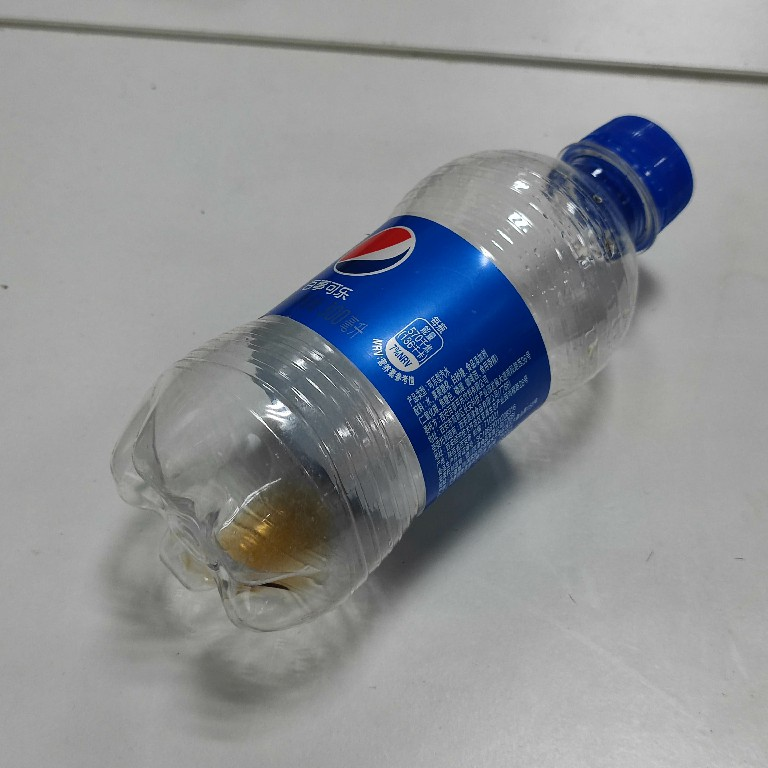bottle: (105, 107, 701, 638)
